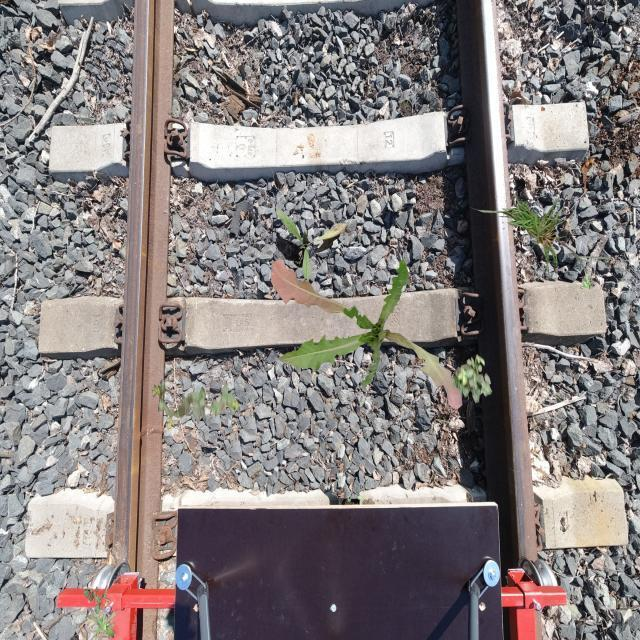Plant: (270, 258, 462, 410), (468, 193, 612, 283), (276, 209, 348, 284), (152, 378, 238, 430), (449, 354, 492, 404), (85, 605, 118, 640), (83, 584, 110, 614), (579, 274, 593, 290)
